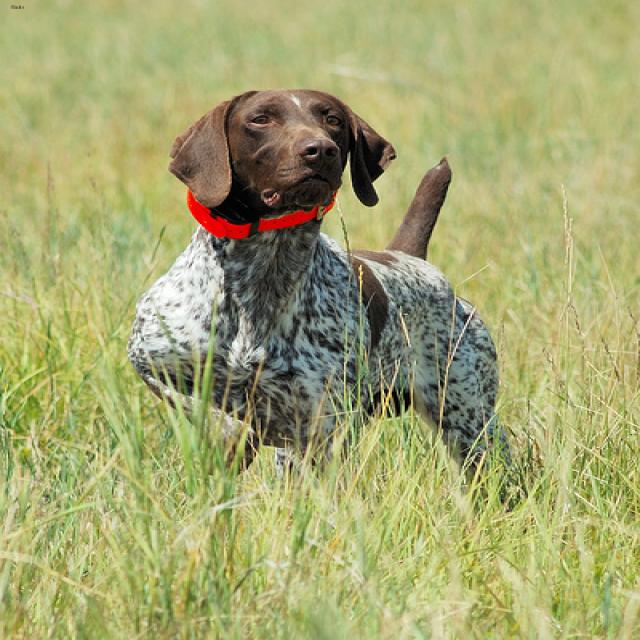dog-german_shorthaired: (114, 81, 530, 517)
